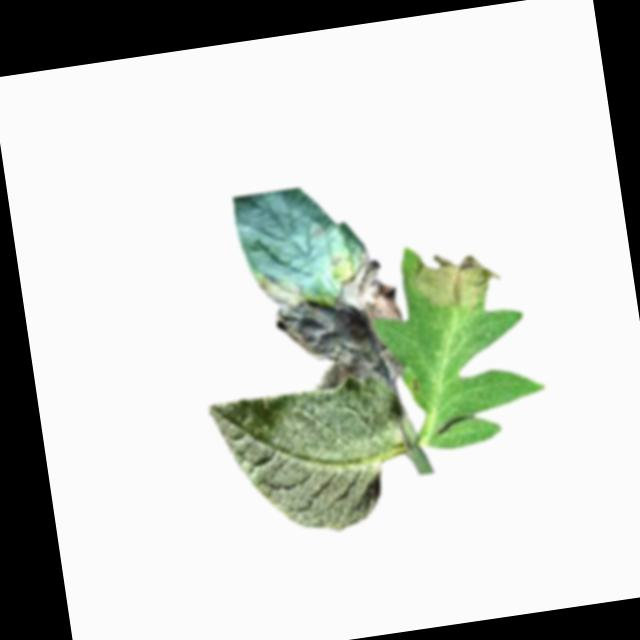Late_blight: (251, 242, 408, 398), (407, 241, 509, 321)
